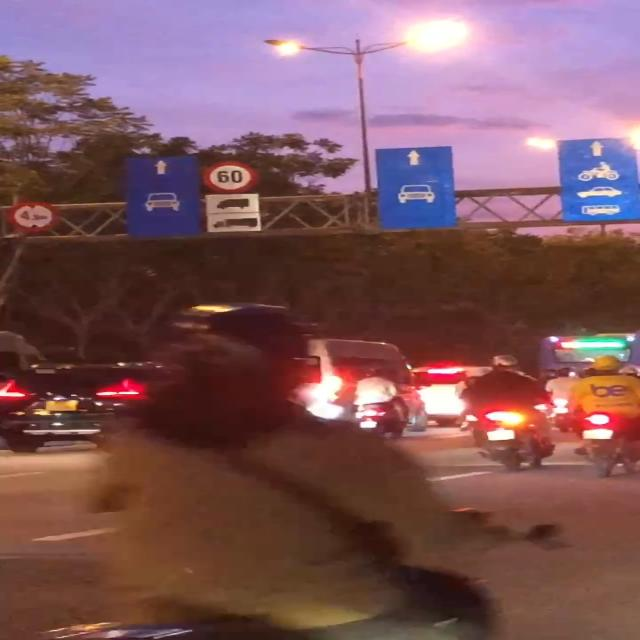Bien bao han che chieu cao: (7, 200, 59, 232)
Bien bao toc do toi da cho phep: (200, 158, 266, 197)
